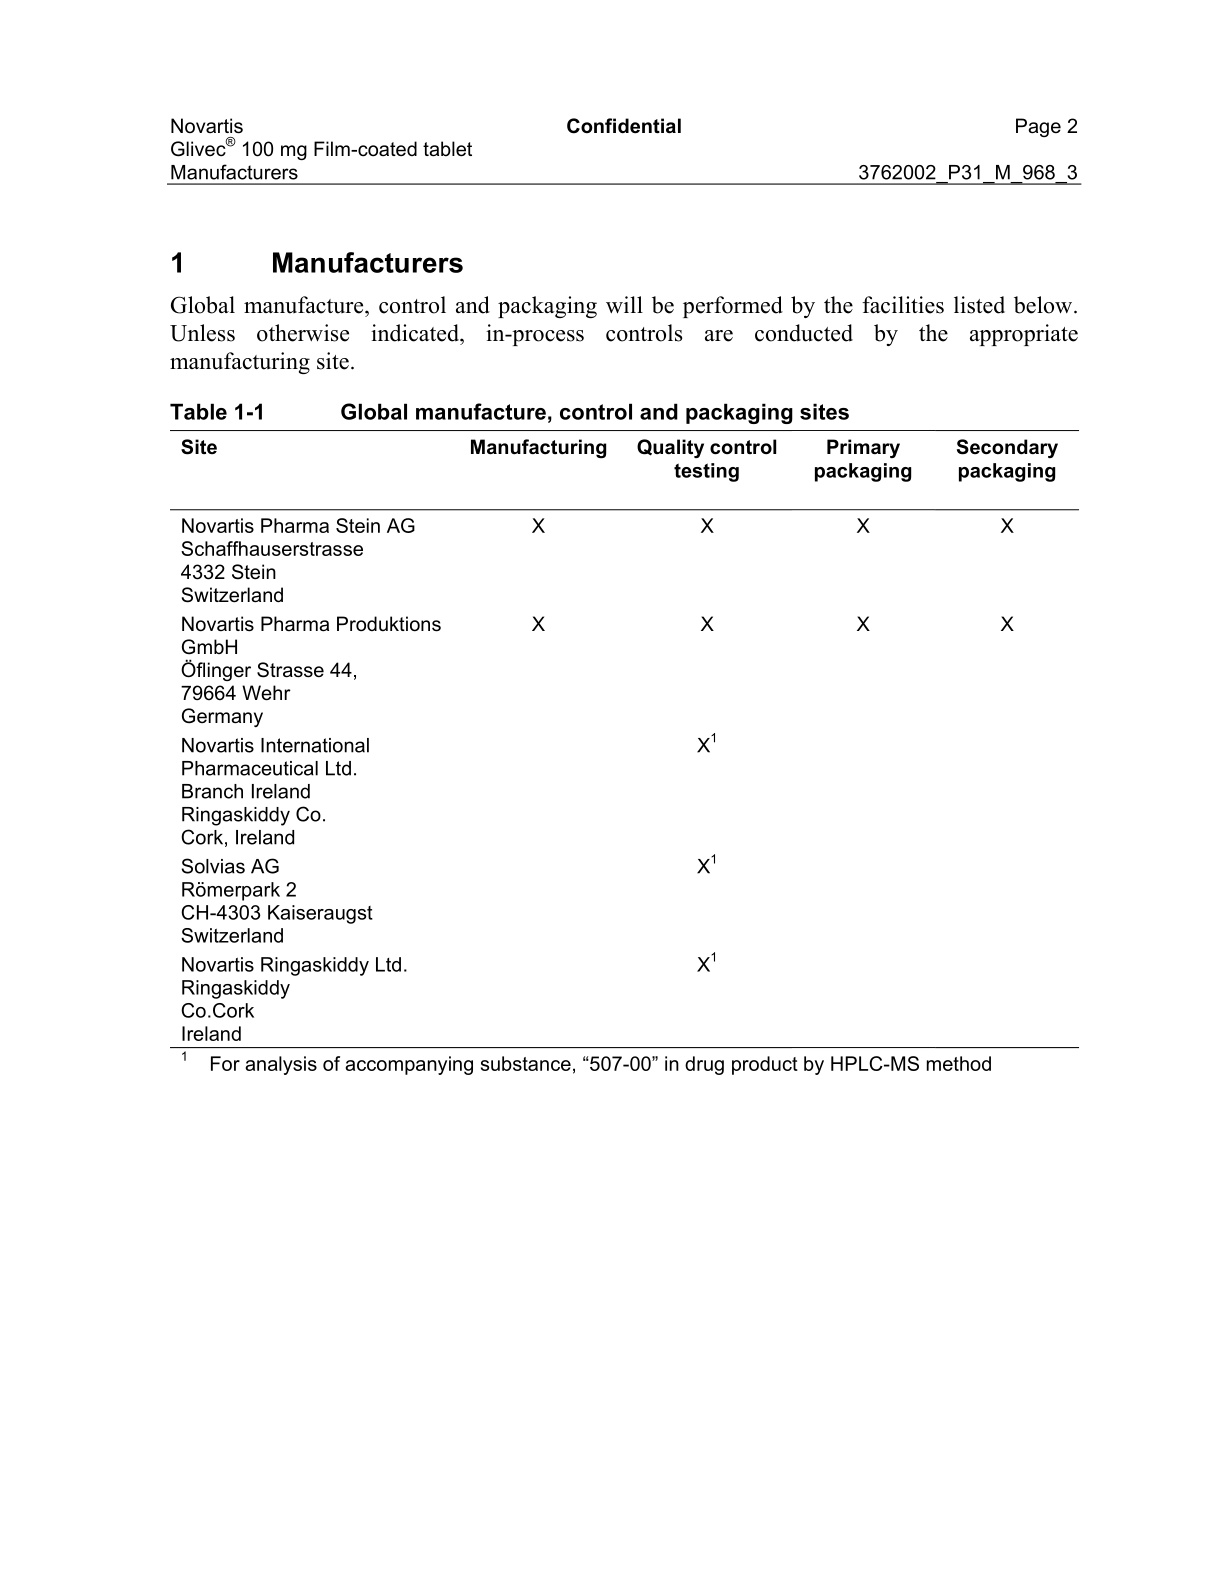partial_lined: (168, 427, 1081, 1050)
